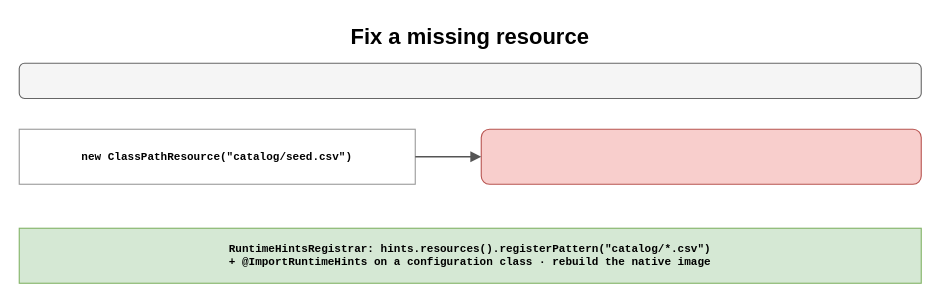
This 941x303 diagram has some shape labels left out. Here are the shapes that lost their labels. From the top down, the centre of each, then its label:
pixel 469 80: Native images include only resources registered at build time
pixel 700 156: native: "resource not found"
